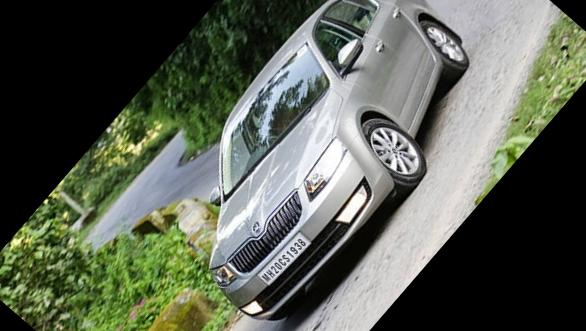plate: (250, 219, 319, 292)
